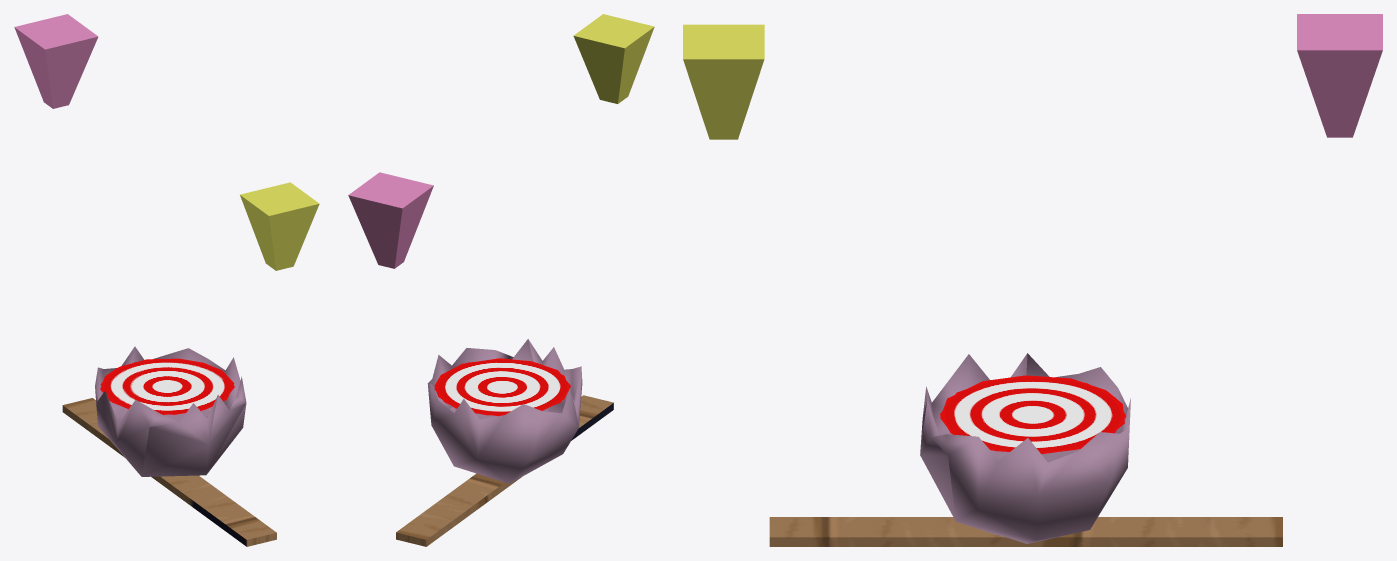
File: Target.fbx
3 renders of one model, left to right at view 1: azimuth 30°, elevation 25°; view 2: azimuth 150°, elevation 25°; view 3: azimuth 270°, elevation 25°, orthographic. The views are drawn at different scales.
Parts seen in each view (by area): view 1: Egg_ShallA.002, target.002, Cube, Cube.001, Cube.002; view 2: Egg_ShallA.002, target.002, Cube, Cube.001, Cube.002; view 3: Egg_ShallA.002, Cube.002, target.002, Cube, Cube.001.
Part boxes in pixels (x1,y1,x2,y2): Egg_ShallA.002: (95,346,246,476); target.002: (100,358,234,414); Cube: (14,14,98,108); Cube.001: (240,182,319,270); Cube.002: (62,398,276,546); Egg_ShallA.002: (427,339,582,483); target.002: (434,358,570,416); Cube: (348,172,433,268); Cube.001: (573,14,654,103); Cube.002: (396,395,613,546); Egg_ShallA.002: (920,353,1130,543); Cube.002: (769,517,1282,546); target.002: (940,375,1126,454); Cube: (1297,14,1382,137); Cube.001: (683,24,764,139).
Size of the model in its own units: 418 by 1100 by 1383.
